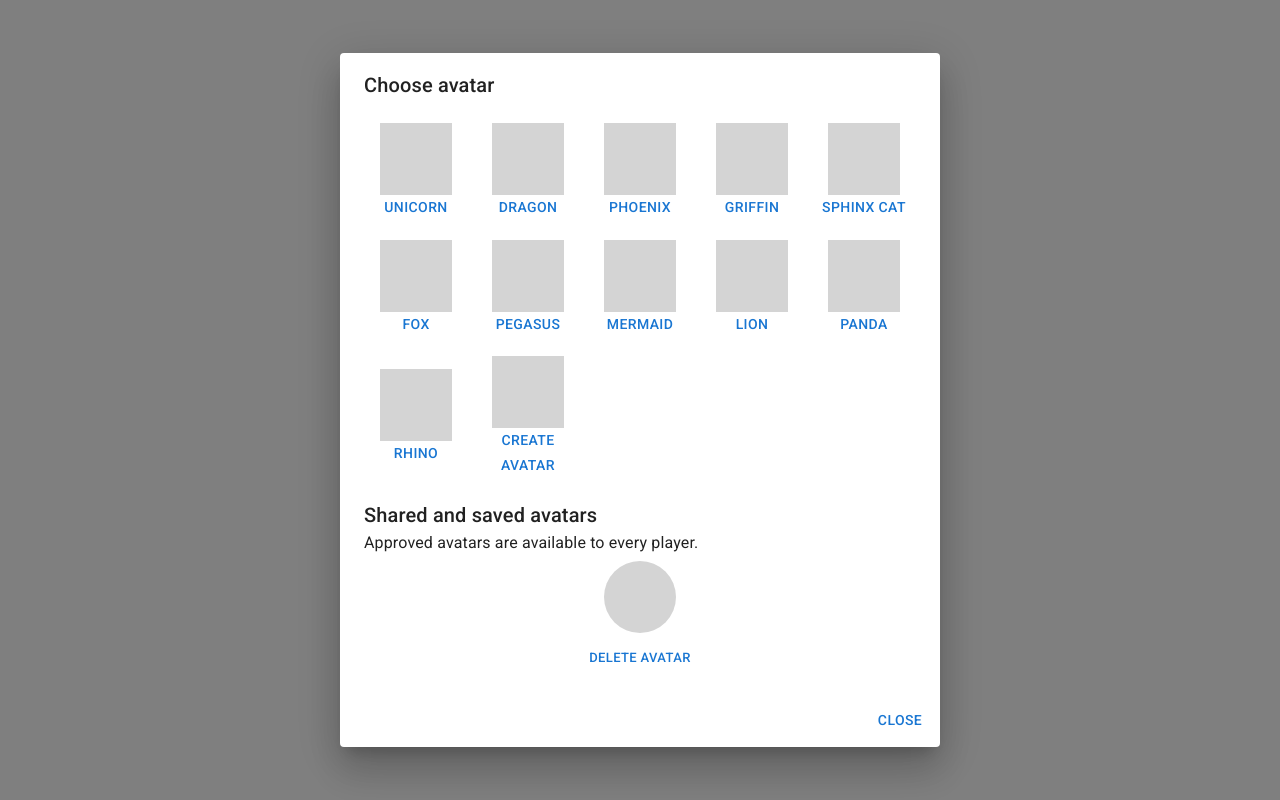
deletes an owned saved avatar directly from the gallery
Click the button named "Saved avatar 10" at (640, 597), box [364,555,916,639]
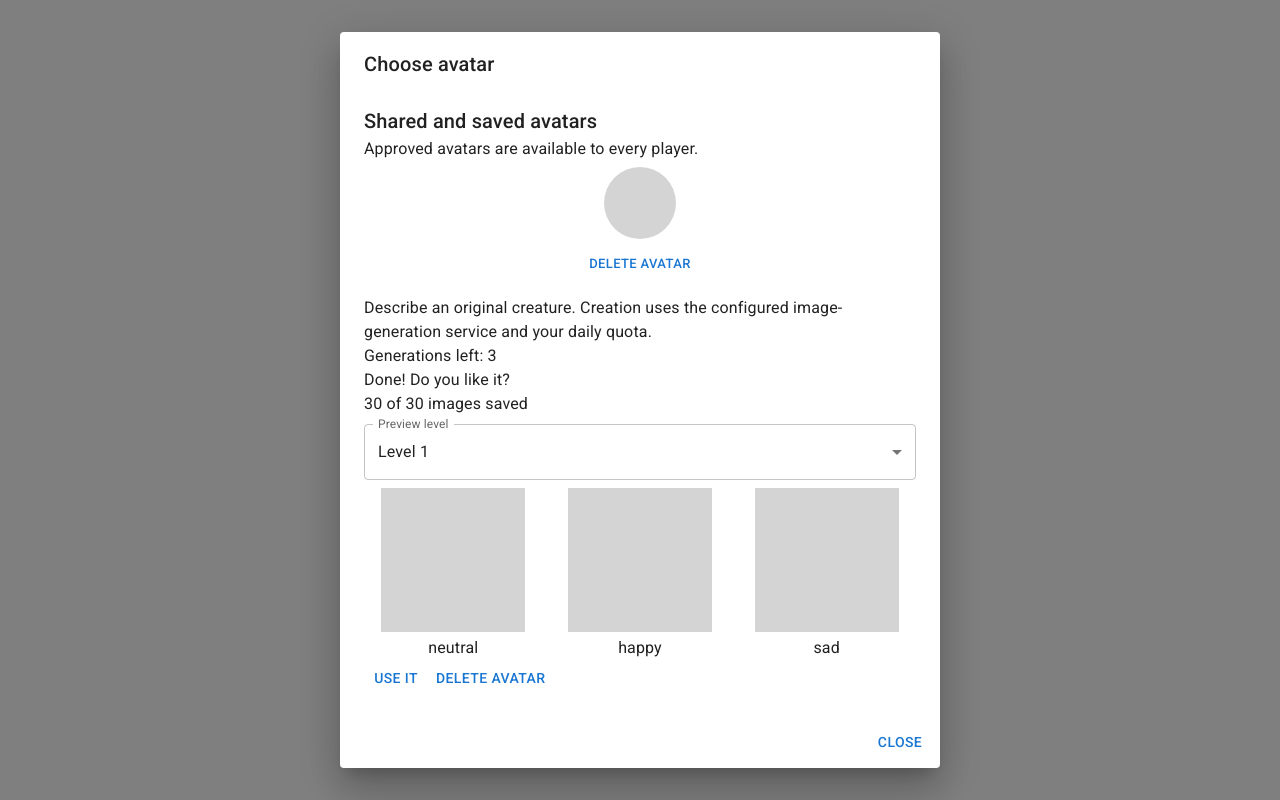
Result: the button "Use it" is enabled at [364,660,428,696]
Click the button with aria-label "Delete saved avatar 10" at (640, 264), box [364,249,916,280]
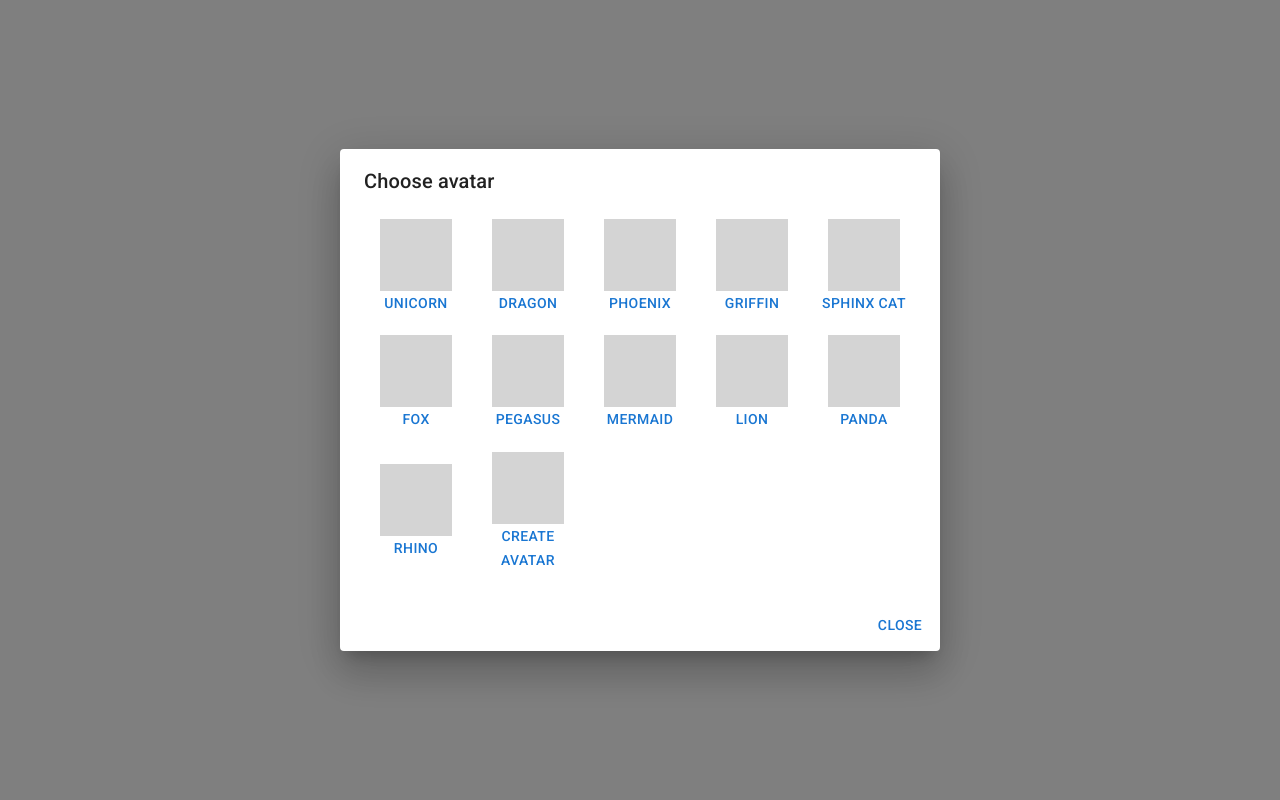
Result: the button "Use it" is gone
